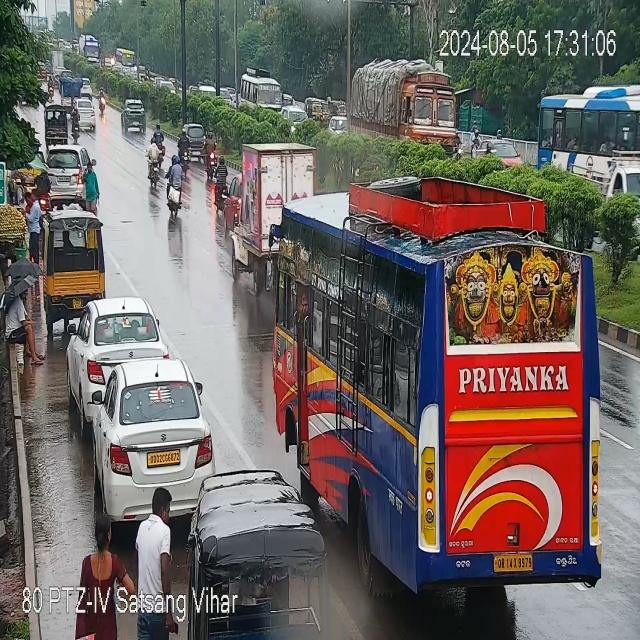2-wheelers: (164, 157, 188, 215), (212, 158, 231, 211), (204, 134, 223, 177), (177, 128, 193, 177), (146, 140, 159, 190), (97, 89, 108, 113)
auto: (181, 477, 323, 640), (44, 216, 107, 317), (46, 106, 77, 145), (306, 96, 328, 129)
bus: (271, 221, 613, 489), (538, 78, 636, 234), (240, 64, 283, 111), (78, 34, 102, 65), (116, 48, 139, 74)
car: (89, 358, 212, 520), (69, 299, 160, 398), (43, 144, 94, 202), (121, 107, 151, 134), (72, 97, 98, 128), (122, 98, 150, 120)
pedestrian: (134, 486, 176, 614), (78, 524, 132, 611), (5, 287, 44, 366), (23, 186, 45, 256), (84, 165, 99, 212)
truck: (350, 57, 458, 148), (236, 135, 317, 254)
